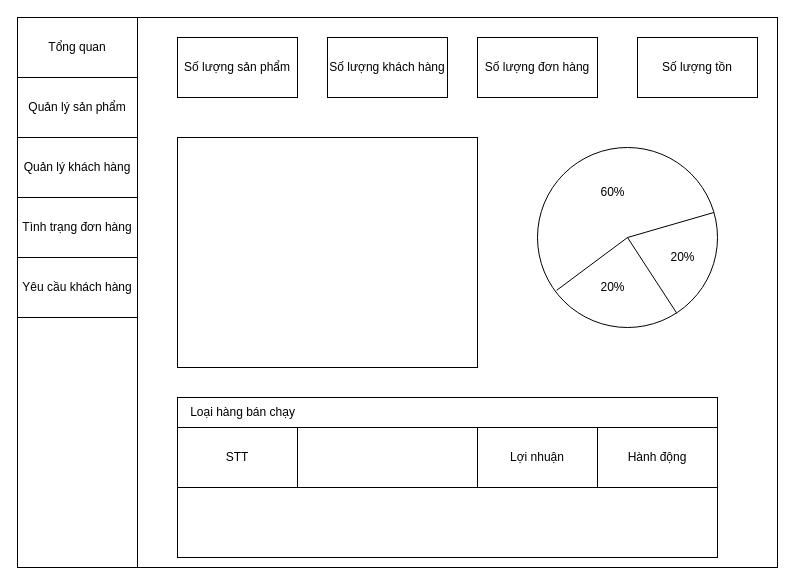
This 795x585 diagram has some shape labels left out. Each missing label, with the centre of its shape:
"Loại hàng" goes at (387,457).
"Thể hiện số liệu tổng quan" goes at (327,252).
